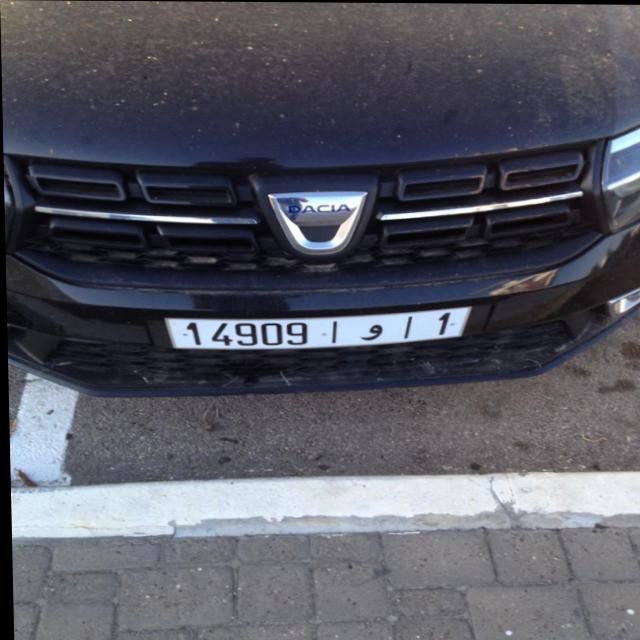License-Plate: (164, 307, 469, 349)
